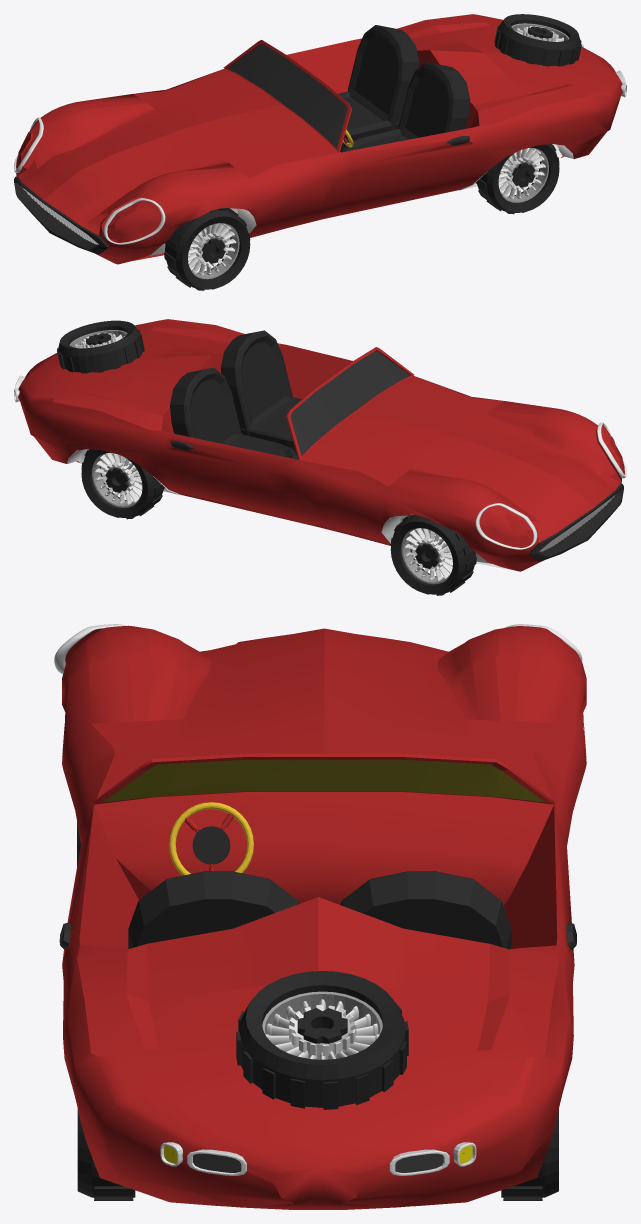
Rendered from MASHINA6.fbx.
3 views of the same model, one above another, from view 1: azimuth 30°, elevation 25°; view 2: azimuth 150°, elevation 25°; view 3: azimuth 270°, elevation 25° (orthographic). The views are drawn at different scales.
Parts seen in each view (by area): view 1: Cube, Cube.006, колесо 10.002, Cube.005, колесо 10.001, колесо 10, Cube.001, Cube.003, Cube.002; view 2: Cube, Cube.005, колесо 10.002, Cube.006, колесо 10.001, колесо 10, Cube.001, Cube.003, Cube.002; view 3: Cube, колесо 10, Cube.006, Cube.005, Cube.004, колесо 10.001, Circle, Circle.001, Cube.003.
Boxes of the visible parts, x1=… form: Cube: x1=14, y1=14, x2=622, y2=264; Cube.006: x1=338, y1=25, x2=419, y2=151; колесо 10.002: x1=164, y1=208, x2=250, y2=290; Cube.005: x1=341, y1=62, x2=470, y2=152; колесо 10.001: x1=476, y1=144, x2=559, y2=214; колесо 10: x1=494, y1=14, x2=581, y2=66; Cube.001: x1=16, y1=120, x2=161, y2=242; Cube.003: x1=14, y1=117, x2=165, y2=244; Cube.002: x1=21, y1=186, x2=98, y2=244; Cube: x1=18, y1=319, x2=623, y2=571; Cube.005: x1=220, y1=330, x2=301, y2=453; колесо 10.002: x1=390, y1=515, x2=476, y2=595; Cube.006: x1=170, y1=367, x2=298, y2=459; колесо 10.001: x1=81, y1=449, x2=164, y2=519; колесо 10: x1=57, y1=320, x2=144, y2=373; Cube.001: x1=479, y1=425, x2=624, y2=547; Cube.003: x1=475, y1=422, x2=626, y2=549; Cube.002: x1=539, y1=495, x2=614, y2=551; Cube: x1=59, y1=625, x2=586, y2=1209; колесо 10: x1=236, y1=971, x2=408, y2=1109; Cube.006: x1=340, y1=871, x2=511, y2=949; Cube.005: x1=128, y1=871, x2=299, y2=948; Cube.004: x1=160, y1=1142, x2=476, y2=1175; колесо 10.001: x1=77, y1=1109, x2=558, y2=1200; Circle: x1=168, y1=802, x2=253, y2=875; Circle.001: x1=192, y1=826, x2=230, y2=864; Cube.003: x1=54, y1=624, x2=582, y2=674.
Size of the model in its own units: 557 by 135 by 229.
